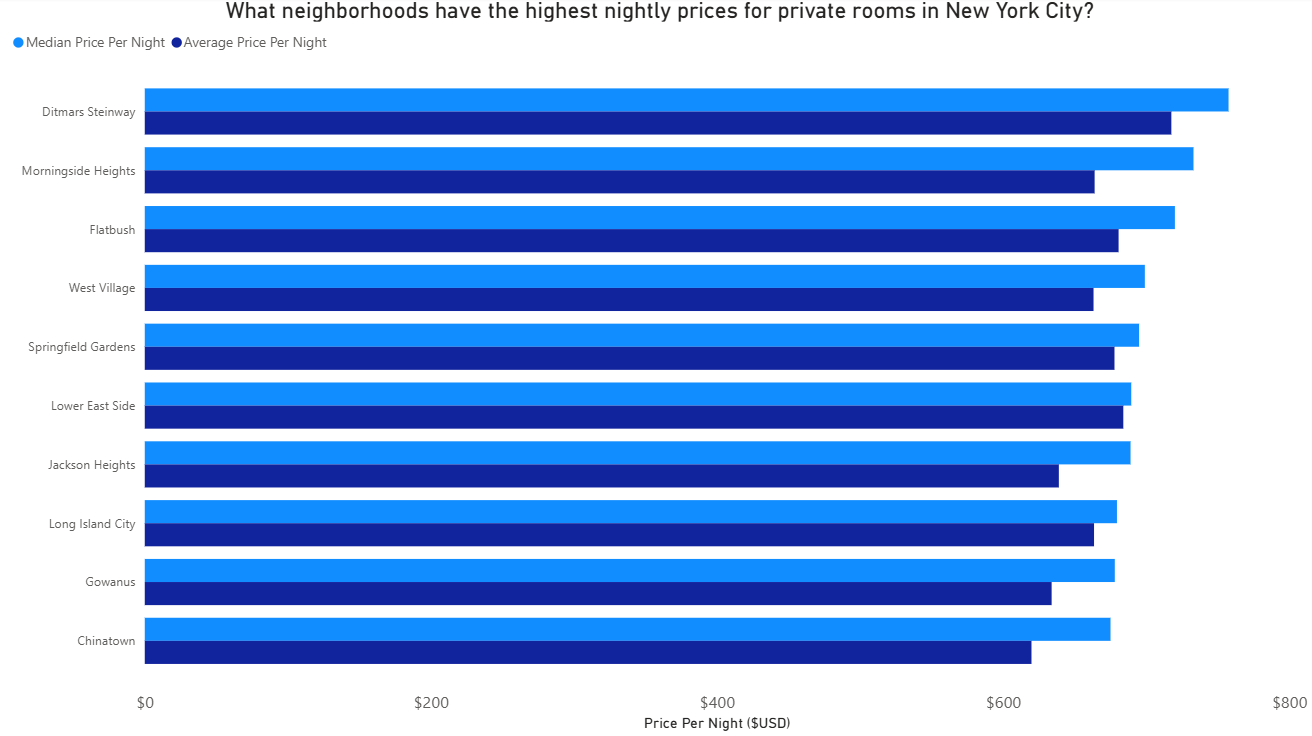

The page's visual inventory and layout, read from the dashboard file:
{"tool":"powerbi","page":{"name":"Query_1","canvas":[1280,720],"ordinal":0},"visuals":[{"type":"clusteredBarChart","title":"What neighborhoods have the highest nightly prices for private rooms in New York City?","fields":{"Y":["Sum(Query_1.median_price_per_night)","Sum(Query_1.avg_price_per_night)"],"Category":["Query_1.neighborhood"]},"box":[9.7,0,1270.3,719.8],"z":0}]}

Visuals, with their boxes in screenshot pixels (x1, y1, x2, y2), scaled from the page's 1280x720 canvas onto the 1312x736 screenshot:
"What neighborhoods have the highest nightly prices for private rooms in New York City?" clusteredBarChart: 10:0:1311:735
